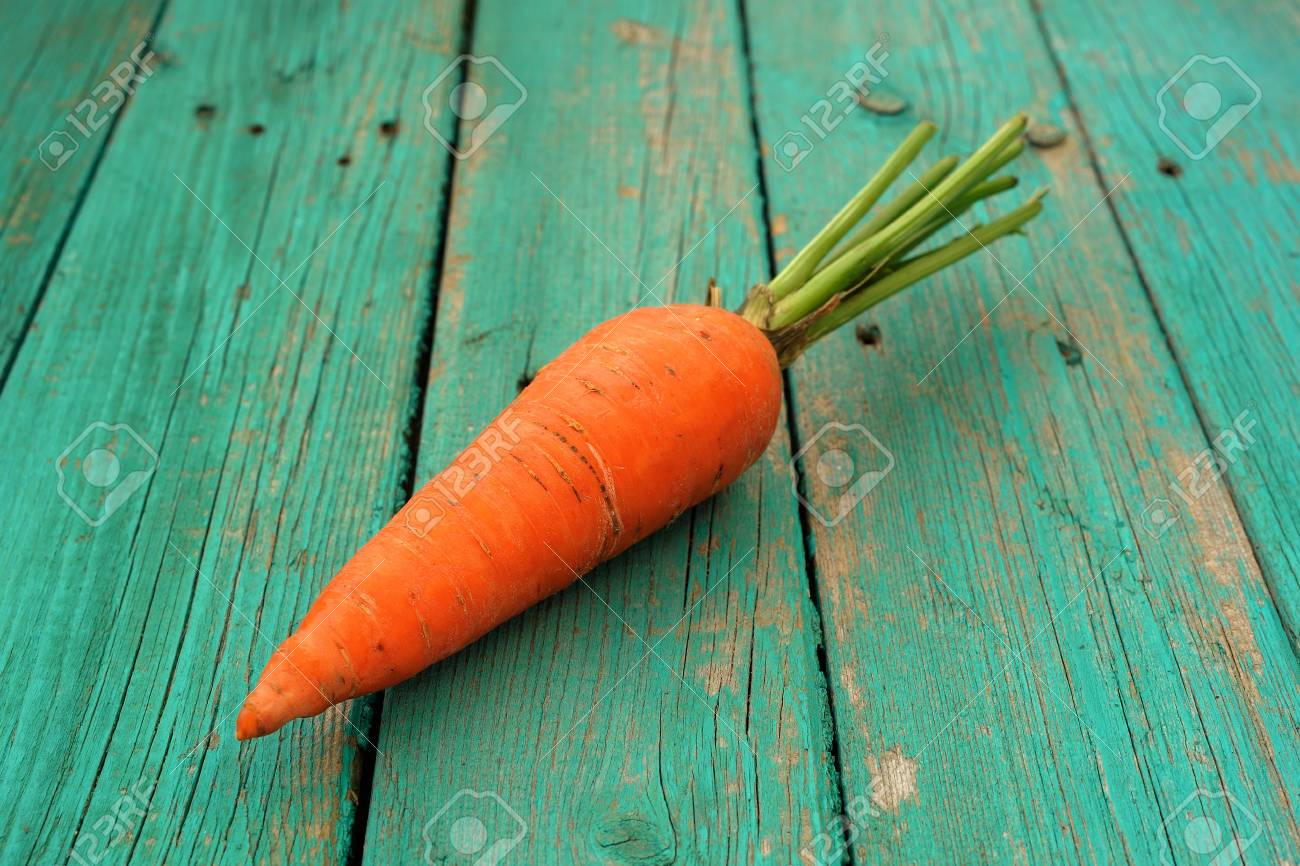carrot: (206, 105, 1112, 789)
